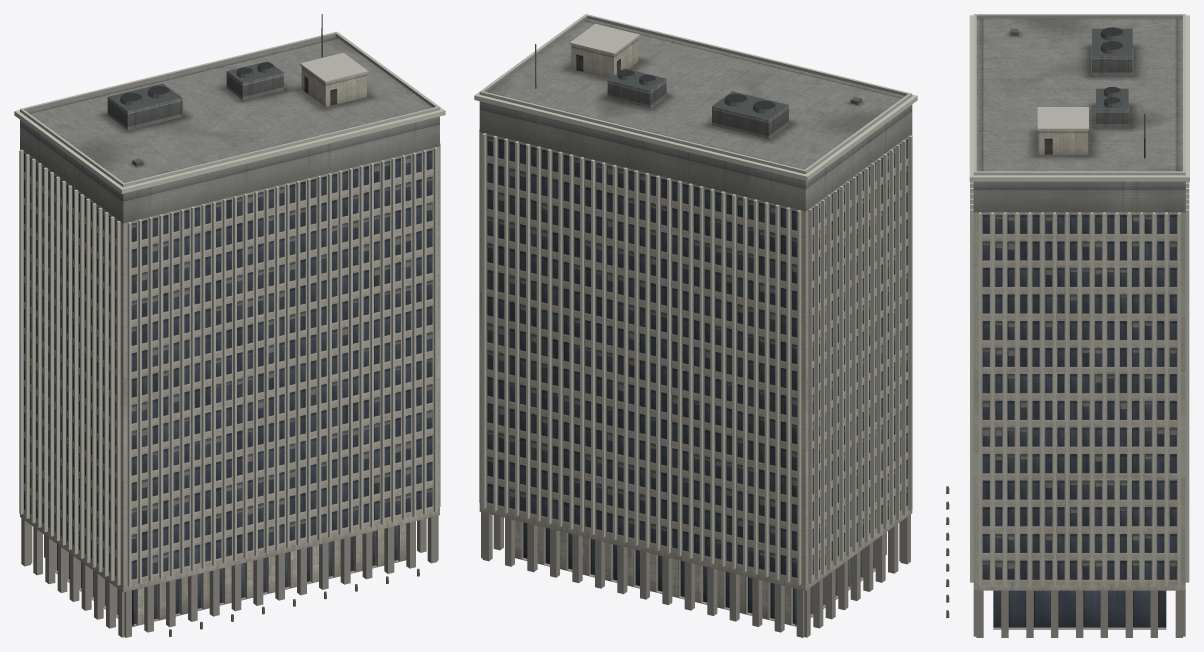
File: seattle_officeslab_a.glb
The picture shows the model from 3 angles, left to right: view 1: azimuth 30°, elevation 25°; view 2: azimuth 150°, elevation 25°; view 3: azimuth 270°, elevation 25°; orthographic projection. The views are drawn at different scales.
Visible parts, largest first — view 1: seattle_officeslab_a; view 2: seattle_officeslab_a; view 3: seattle_officeslab_a.
Boxes of the visible parts, x1,y1,x2,y2 form: seattle_officeslab_a: (14, 14, 445, 637); seattle_officeslab_a: (474, 14, 917, 637); seattle_officeslab_a: (946, 14, 1189, 637).
Bounding box in the file's own units: 47 × 68.6 × 29.89.
1 material, 1 textured.
